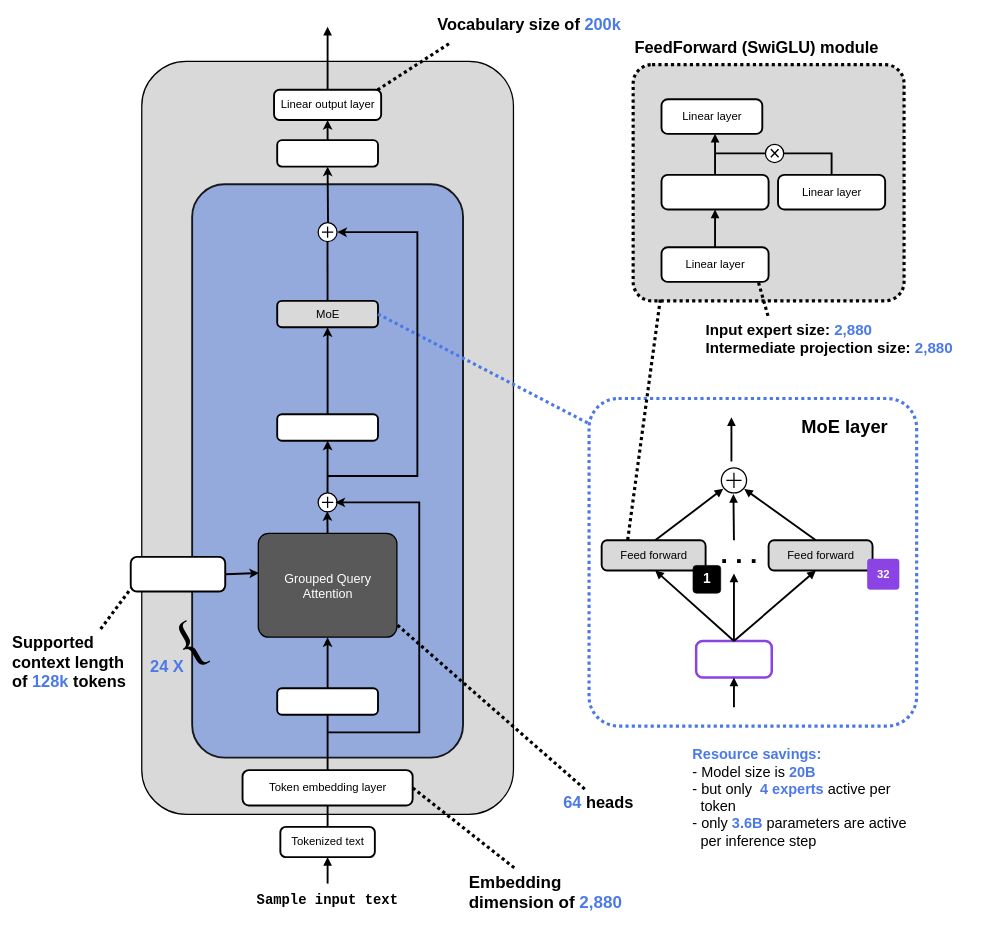
Image size: 990x944. Some labels were removed from this diagram. Each missing label, with the centre of its shape:
"Final RMSNorm" belongs at point 327,153.
"RMSNorm 1" belongs at point 327,701.
"RMSNorm 2" belongs at point 327,427.
"RoPE" belongs at point 177,574.
"Router" belongs at point 734,659.
"SiLU activation" belongs at point 714,192.
